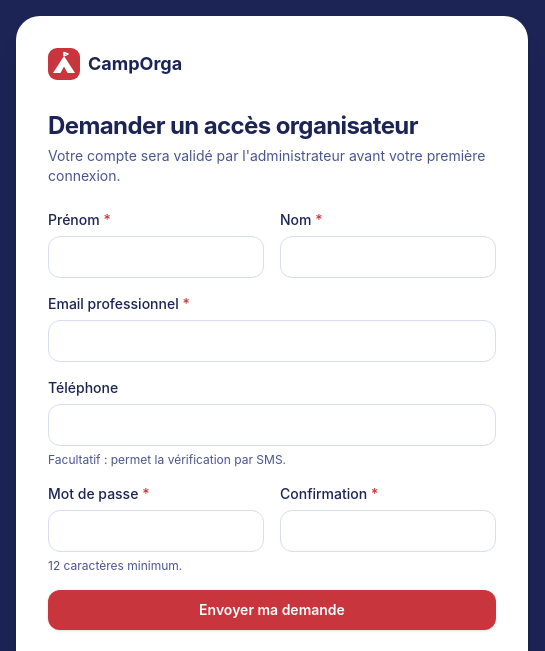
Test case: Double authentification et inscription › vérifie que les deux mots de passe correspondent
This screenshot has width=545, height=651.
Type "un-mot-de-passe-solide" into the password field labelled "Mot de passe *" at (156, 531), box [48, 510, 264, 552]
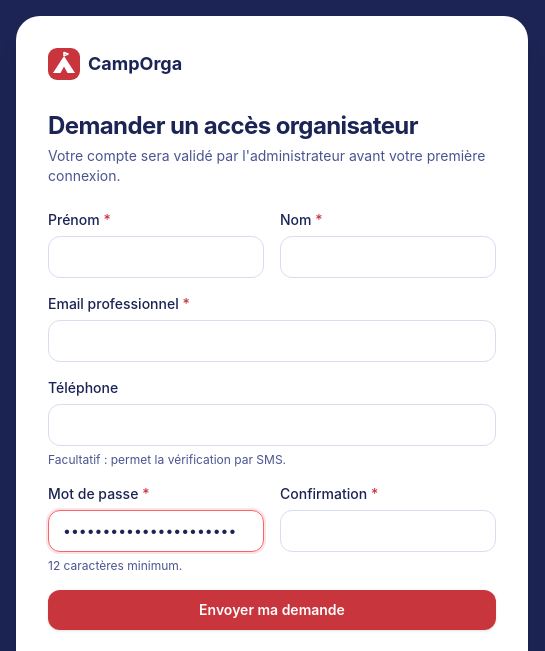
Type "un-autre-mot-de-passe" into the password field labelled "Confirmation *" at (388, 531), box [280, 510, 496, 552]
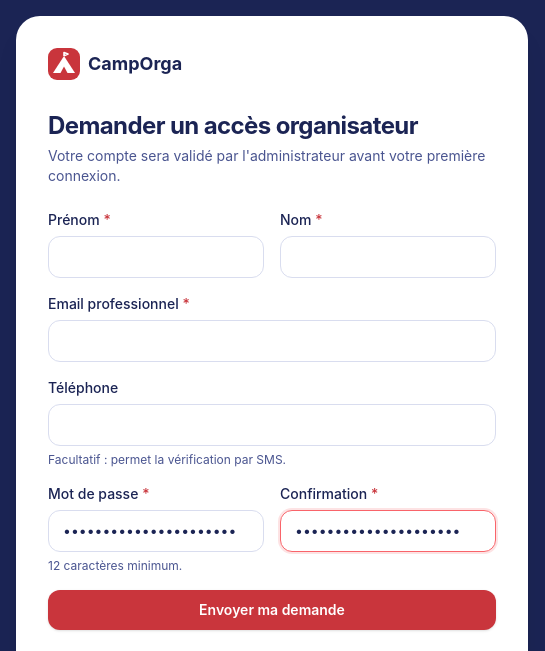
Click the button "Envoyer ma demande" at (272, 610), box [48, 590, 496, 630]
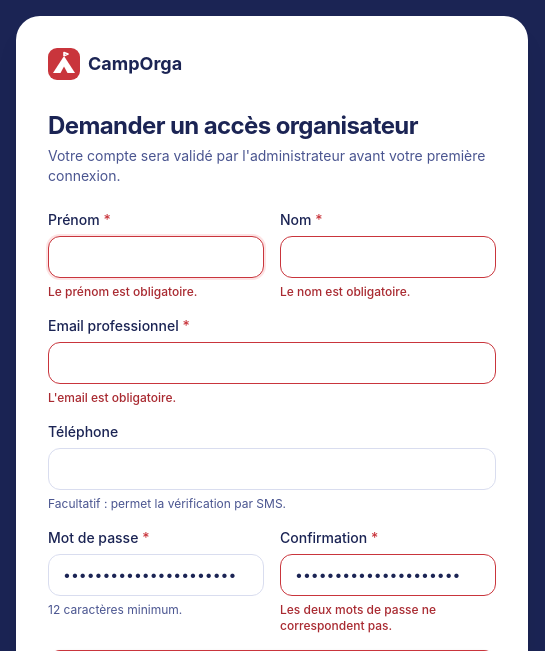
Expected: the text "Les deux mots de passe ne correspondent pas." is shown, [280, 602, 436, 633]
